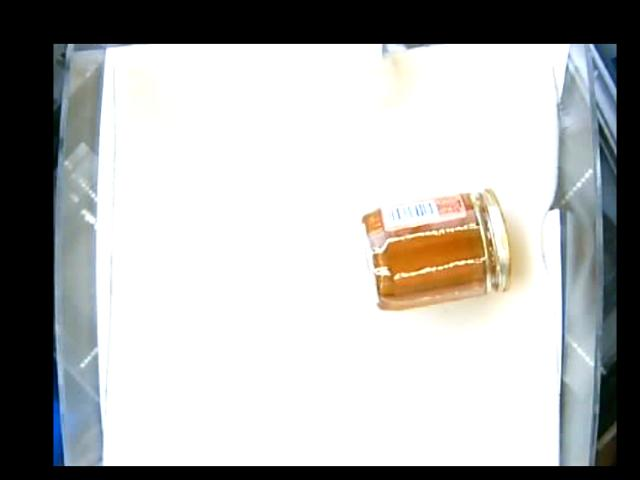Bottle: (364, 188, 516, 310)
